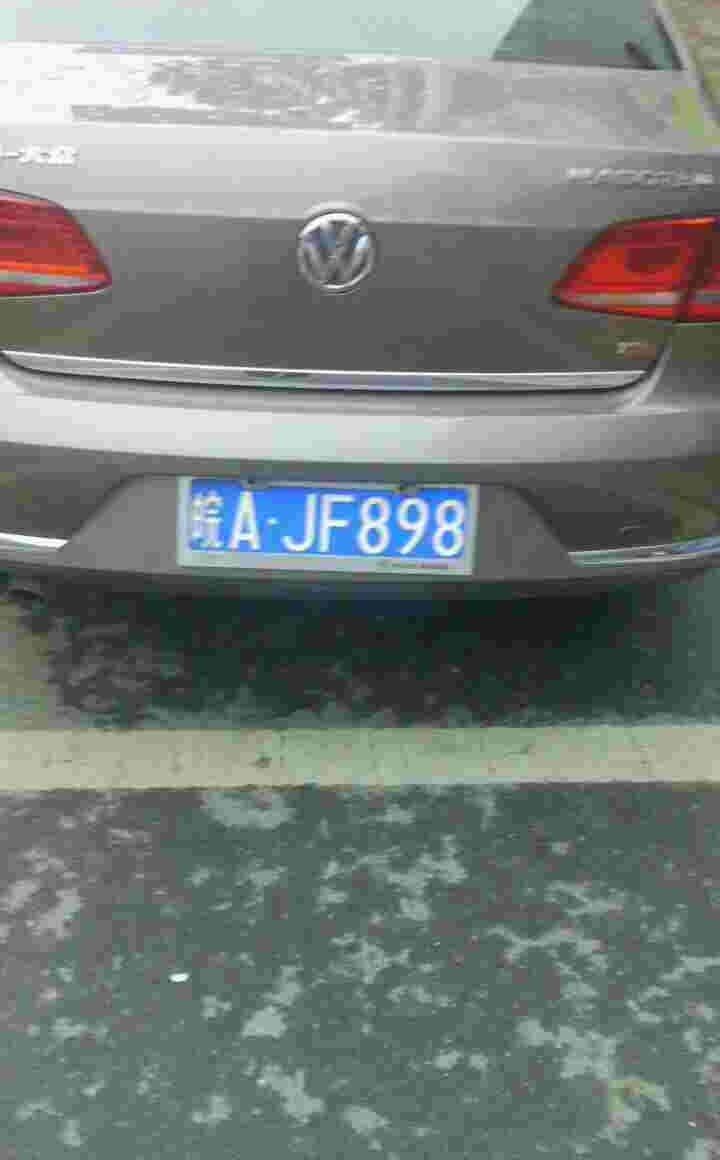plate: (183, 476, 483, 569)
